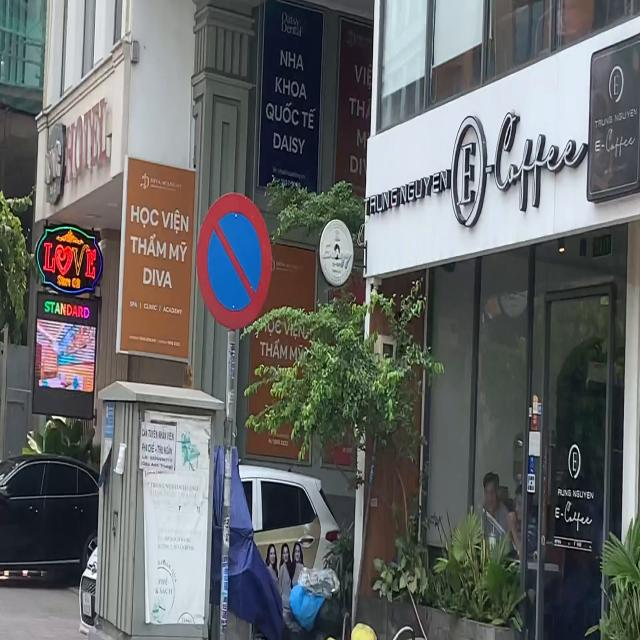Cam do: (196, 193, 272, 330)
